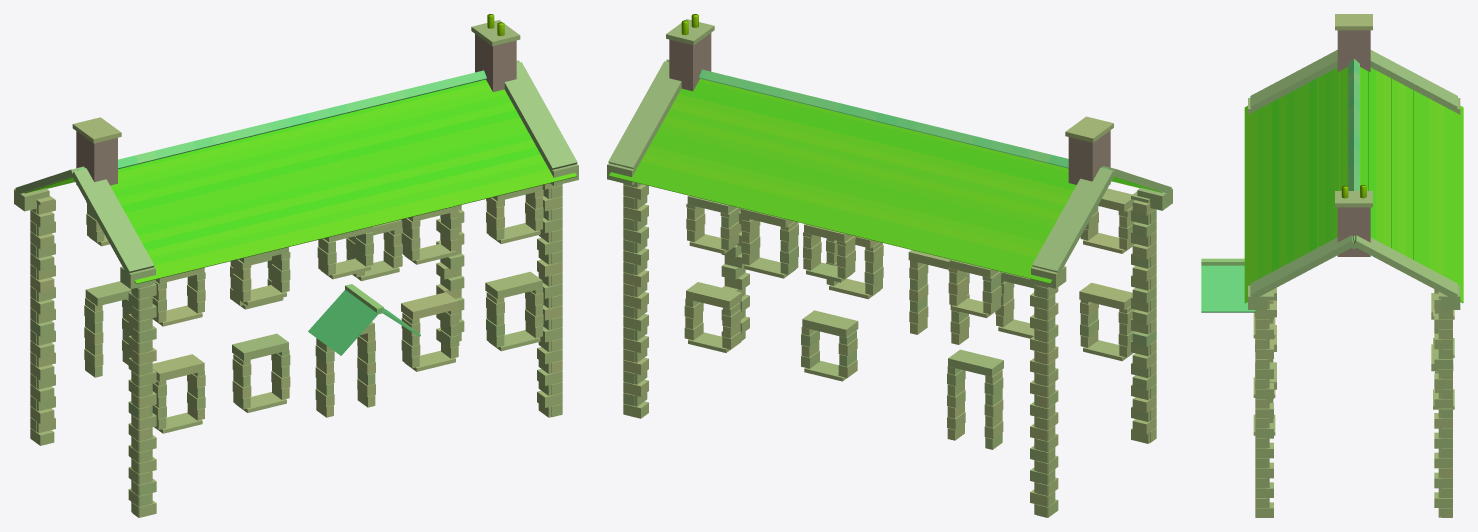
The model's file is SM_Bld_185_Stone.glb.
3 views of the same model, side by side, from view 1: azimuth 30°, elevation 25°; view 2: azimuth 150°, elevation 25°; view 3: azimuth 270°, elevation 25° (orthographic). The views are drawn at different scales.
Visible parts, largest first — view 1: SM_Bld_185_Stone; view 2: SM_Bld_185_Stone; view 3: SM_Bld_185_Stone.
Part boxes in pixels (bbox=[...]): SM_Bld_185_Stone: bbox=[14, 14, 578, 517]; SM_Bld_185_Stone: bbox=[607, 14, 1172, 517]; SM_Bld_185_Stone: bbox=[1201, 14, 1463, 517].
Bounding box in the file's own units: 12.88 × 9.85 × 7.19.
